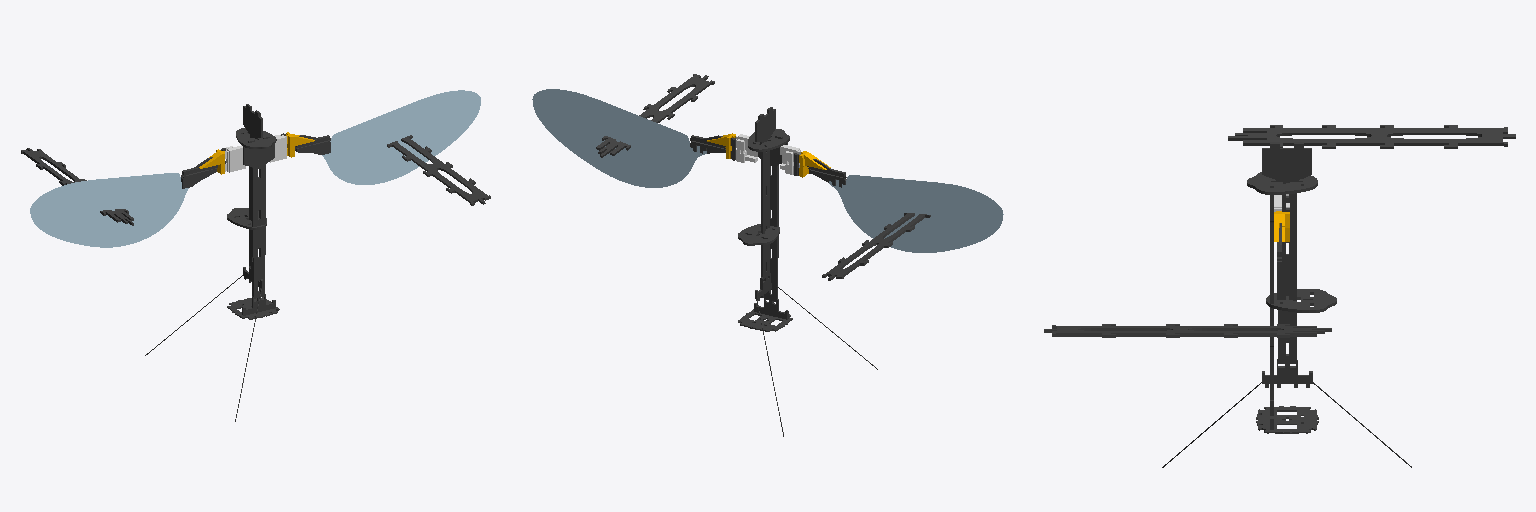
The robot description file, URDF, robot "robobee_assembly":
<!--URDF generated by ONSHAPE BY PTC INC, 1.215-->
<robot name="robobee_assembly">
    <link name="airframe_asy__1_" />
    <link name="hinge_base">
        <visual>
            <origin xyz="-0.00115694 -0.000434896 2.75e-05" rpy="0 -0 0" />
            <geometry>
                <mesh filename="package://robobee_assembly/meshes/hinge_base.obj" scale="1 1 1" />
            </geometry>
            <material name="0.301961_0.301961_0.301961_0.000000_0.000000">
                <color rgba="0.301961 0.301961 0.301961 1" />
            </material>
        </visual>
    </link>
    <link name="hinge_base__1_">
    </link>
    <link name="hinge_wing">
        <visual>
            <origin xyz="0 0 0" rpy="0 -0 0" />
            <geometry>
                <mesh filename="package://robobee_assembly/meshes/hinge_wing.obj" scale="1 1 1" />
            </geometry>
            <material name="0.301961_0.301961_0.301961_0.000000_0.000000">
                <color rgba="0.301961 0.301961 0.301961 1" />
            </material>
        </visual>
    </link>
    <link name="hinge_wing__1_">
    </link>
    <link name="part_1">
        <visual>
            <origin xyz="0.00679779 -0.00217114 -1.5e-06" rpy="0 -0 0" />
            <geometry>
                <mesh filename="package://robobee_assembly/meshes/Part_1.obj" scale="1 1 1" />
            </geometry>
            <material name="0.768627_0.886275_0.952941_0.000000_0.901961">
                <color rgba="0.768627 0.886275 0.952941 0.0980392" />
            </material>
        </visual>
    </link>
    <link name="part_1_1">
        <visual>
            <origin xyz="0.00563025 -0.00176977 -8e-05" rpy="0 -0 0" />
            <geometry>
                <mesh filename="package://robobee_assembly/meshes/Part_1_1.obj" scale="1 1 1" />
            </geometry>
            <material name="0.301961_0.301961_0.301961_0.000000_0.000000">
                <color rgba="0.301961 0.301961 0.301961 1" />
            </material>
        </visual>
    </link>
    <link name="part_1_2">
        <visual>
            <origin xyz="8.5e-05 8.5e-05 -0.0037825" rpy="0 -0 0" />
            <geometry>
                <mesh filename="package://robobee_assembly/meshes/Part_1_2.obj" scale="1 1 1" />
            </geometry>
            <material name="0.301961_0.301961_0.301961_0.000000_0.000000">
                <color rgba="0.301961 0.301961 0.301961 1" />
            </material>
        </visual>
    </link>
    <link name="part_1_3">
        <visual>
            <origin xyz="-0.000859972 -8.5e-05 -0.00856221" rpy="0 -0 0" />
            <geometry>
                <mesh filename="package://robobee_assembly/meshes/Part_1_3.obj" scale="1 1 1" />
            </geometry>
            <material name="0.301961_0.301961_0.301961_0.000000_0.000000">
                <color rgba="0.301961 0.301961 0.301961 1" />
            </material>
        </visual>
    </link>
    <link name="part_1_4">
        <visual>
            <origin xyz="3.12889e-17 -1.40194e-16 4.5e-05" rpy="0 -0 0" />
            <geometry>
                <mesh filename="package://robobee_assembly/meshes/Part_1_4.obj" scale="1 1 1" />
            </geometry>
            <material name="0.301961_0.301961_0.301961_0.000000_0.000000">
                <color rgba="0.301961 0.301961 0.301961 1" />
            </material>
        </visual>
    </link>
    <link name="part_1_5">
        <visual>
            <origin xyz="-0.00086 0.0005575 8.5e-05" rpy="0 -0 0" />
            <geometry>
                <mesh filename="package://robobee_assembly/meshes/Part_1_5.obj" scale="1 1 1" />
            </geometry>
            <material name="0.301961_0.301961_0.301961_0.000000_0.000000">
                <color rgba="0.301961 0.301961 0.301961 1" />
            </material>
        </visual>
    </link>
    <link name="part_1_6">
        <visual>
            <origin xyz="0.000934002 0 -0.0002" rpy="0 -0 0" />
            <geometry>
                <mesh filename="package://robobee_assembly/meshes/Part_1_6.obj" scale="1 1 1" />
            </geometry>
            <material name="0.301961_0.301961_0.301961_0.000000_0.000000">
                <color rgba="0.301961 0.301961 0.301961 1" />
            </material>
        </visual>
    </link>
    <link name="part_1_7">
        <visual>
            <origin xyz="0.00679779 -0.00217114 -1.5e-06" rpy="0 -0 0" />
            <geometry>
                <mesh filename="package://robobee_assembly/meshes/Part_1.obj" scale="1 1 1" />
            </geometry>
            <material name="0.768627_0.886275_0.952941_0.000000_0.901961">
                <color rgba="0.768627 0.886275 0.952941 0.0980392" />
            </material>
        </visual>
    </link>
    <link name="part_1_8">
        <visual>
            <origin xyz="0.00563025 -0.00176977 -8e-05" rpy="0 -0 0" />
            <geometry>
                <mesh filename="package://robobee_assembly/meshes/Part_1_1.obj" scale="1 1 1" />
            </geometry>
            <material name="0.301961_0.301961_0.301961_0.000000_0.000000">
                <color rgba="0.301961 0.301961 0.301961 1" />
            </material>
        </visual>
    </link>
    <link name="planar_1" />
    <link name="planar_1_1" />
    <link name="planar_1_2" />
    <link name="planar_1_3" />
    <link name="planar_2_loop_closure" />
    <link name="planar_2_loop_closure_1" />
    <link name="root">
        <visual>
            <origin xyz="-0.00488933 -0.000412 0.011418" rpy="1.5708 2.25796e-15 3.14159" />
            <geometry>
                <mesh filename="package://robobee_assembly/meshes/hinge_wing_Mirrored.obj" scale="1 1 1" />
            </geometry>
            <material name="0.301961_0.301961_0.301961_0.000000_0.000000">
                <color rgba="0.301961 0.301961 0.301961 1" />
            </material>
        </visual>
        <visual>
            <origin xyz="-0.00488933 -0.000412 0.011418" rpy="1.5708 2.25796e-15 3.14159" />
            <geometry>
                <mesh filename="package://robobee_assembly/meshes/hinge_base_Mirrored.obj" scale="1 1 1" />
            </geometry>
            <material name="0.301961_0.301961_0.301961_0.000000_0.000000">
                <texture />
                <color rgba="0.301961 0.301961 0.301961 1" />
            </material>
        </visual>
        <visual>
            <origin xyz="0.00421147 0.000143 0.012328" rpy="1.5708 9.23243e-12 5.67747e-11" />
            <geometry>
                <mesh filename="package://robobee_assembly/meshes/transmission_link_2.obj" scale="1 1 1" />
            </geometry>
            <material name="0.301961_0.301961_0.301961_0.000000_0.000000">
                <texture />
                <color rgba="0.301961 0.301961 0.301961 1" />
            </material>
        </visual>
        <visual>
            <origin xyz="0.00421147 0.000143 0.012328" rpy="1.5708 -3.15136e-11 4.6094e-22" />
            <geometry>
                <mesh filename="package://robobee_assembly/meshes/transmission_link_1.obj" scale="1 1 1" />
            </geometry>
            <material name="0.917647_0.917647_0.917647_0.000000_0.000000">
                <texture />
                <color rgba="0.917647 0.917647 0.917647 1" />
            </material>
        </visual>
        <visual>
            <origin xyz="0.00421147 0.000143 0.011928" rpy="-1.5708 -2.03591e-15 -3.95164e-22" />
            <geometry>
                <mesh filename="package://robobee_assembly/meshes/transmission_base_Mirrored.obj" scale="1 1 1" />
            </geometry>
            <material name="0.917647_0.917647_0.917647_0.000000_0.000000">
                <texture />
                <color rgba="0.917647 0.917647 0.917647 1" />
            </material>
        </visual>
        <visual>
            <origin xyz="0.00421147 0.000143 0.011928" rpy="-1.5708 -1.81387e-15 8.36974e-12" />
            <geometry>
                <mesh filename="package://robobee_assembly/meshes/transmission_hinge_Mirrored.obj" scale="1 1 1" />
            </geometry>
            <material name="0.980392_0.713725_0.003922_0.000000_0.000000">
                <texture />
                <color rgba="0.980392 0.713726 0.00392157 1" />
            </material>
        </visual>
    </link>
    <link name="sketch_1__1_">
    </link>
    <link name="sketch_2__1_">
    </link>
    <link name="sketch_2__1__loop_closure">
    </link>
    <link name="sketch_3__1_">
    </link>
    <link name="transmission_base">
        <visual>
            <origin xyz="0.00258588 0.00107999 -0.000579" rpy="0 -0 0" />
            <geometry>
                <mesh filename="package://robobee_assembly/meshes/transmission_base.obj" scale="1 1 1" />
            </geometry>
            <material name="0.917647_0.917647_0.917647_0.000000_0.000000">
                <color rgba="0.917647 0.917647 0.917647 1" />
            </material>
        </visual>
    </link>
    <link name="transmission_base__1_">
    </link>
    <link name="transmission_hinge">
        <visual>
            <origin xyz="0.00171622 0.00098 -0.0005265" rpy="0 -0 0" />
            <geometry>
                <mesh filename="package://robobee_assembly/meshes/transmission_hinge.obj" scale="1 1 1" />
            </geometry>
            <material name="0.980392_0.713725_0.003922_0.000000_0.000000">
                <color rgba="0.980392 0.713726 0.00392157 1" />
            </material>
        </visual>
    </link>
    <link name="transmission_hinge__2_">
    </link>
    <link name="transmission_hinge_mirrored__1_">
    </link>
    <link name="transmission_link_1">
        <visual>
            <origin xyz="0.00198021 0.00098 -0.0001235" rpy="0 -0 0" />
            <geometry>
                <mesh filename="package://robobee_assembly/meshes/transmission_link_1.obj" scale="1 1 1" />
            </geometry>
            <material name="0.917647_0.917647_0.917647_0.000000_0.000000">
                <color rgba="0.917647 0.917647 0.917647 1" />
            </material>
        </visual>
    </link>
    <link name="transmission_link_1__1_">
    </link>
    <link name="transmission_link_1__1__1">
    </link>
    <link name="transmission_link_2">
        <visual>
            <origin xyz="0.00158021 0.00098 -0.0001235" rpy="0 -0 0" />
            <geometry>
                <mesh filename="package://robobee_assembly/meshes/transmission_link_2.obj" scale="1 1 1" />
            </geometry>
            <material name="0.301961_0.301961_0.301961_0.000000_0.000000">
                <color rgba="0.301961 0.301961 0.301961 1" />
            </material>
        </visual>
    </link>
    <link name="transmission_link_2__1_">
    </link>
    <link name="transmission_urdf__1_" />
    <joint name="fastened_1" type="fixed">
        <origin xyz="-0.000989203 0.000146549 1.5e-06" rpy="6.60706e-15 -3.11051e-15 -4.16889e-14" />
        <axis xyz="0 0 -1" />
        <parent link="part_1_1" />
        <child link="part_1" />
    </joint>
    <joint name="fastened_1_1" type="fixed">
        <origin xyz="-0.000670617 -3.84606e-08 0.000254" rpy="2.77556e-16 3.29303e-22 -2.22045e-16" />
        <axis xyz="0 0 1" />
        <parent link="transmission_base" />
        <child link="transmission_urdf__1_" />
    </joint>
    <joint name="fastened_1_2" type="fixed">
        <origin xyz="0.000934002 2.95987e-17 -2.90837e-17" rpy="3.30872e-24 -3.37238e-29 6.58606e-23" />
        <axis xyz="0 0 1" />
        <parent link="part_1_6" />
        <child link="airframe_asy__1_" />
    </joint>
    <joint name="fastened_1_3" type="fixed">
        <origin xyz="6.39113e-20 0 0" rpy="7.77156e-16 3.87741e-26 -3.14159" />
        <axis xyz="0 0 -1" />
        <parent link="root" />
        <child link="part_1_4" />
    </joint>
    <joint name="fastened_1_4" type="fixed">
        <origin xyz="-0.000989203 0.000146549 -8e-05" rpy="-5.93844e-15 1.27017e-15 1.98452e-15" />
        <axis xyz="0 0 -1" />
        <parent link="part_1_8" />
        <child link="part_1_7" />
    </joint>
    <joint name="fastened_2" type="fixed">
        <origin xyz="-0.00301999 0.000805097 -0.0001175" rpy="3.14159 1.84962e-30 1.2935e-26" />
        <axis xyz="-1 0 0" />
        <parent link="hinge_base" />
        <child link="transmission_hinge_mirrored__1_" />
    </joint>
    <joint name="fastened_2_1" type="fixed">
        <origin xyz="0.001019 -8.5e-05 0.01037" rpy="-1.11022e-16 -1.11022e-16 -1.5708" />
        <axis xyz="0 0 1" />
        <parent link="part_1_6" />
        <child link="part_1_3" />
    </joint>
    <joint name="fastened_3" type="fixed">
        <origin xyz="-0.00172 3.70255e-17 6.93889e-17" rpy="-1.11022e-16 1.11022e-16 -1.5708" />
        <axis xyz="0 0 1" />
        <parent link="part_1_3" />
        <child link="part_1_2" />
    </joint>
    <joint name="fastened_4" type="fixed">
        <origin xyz="0.001794 -8.5e-05 0.01309" rpy="3.30872e-24 -3.37238e-29 6.58606e-23" />
        <axis xyz="0 0 1" />
        <parent link="part_1_6" />
        <child link="part_1_5" />
    </joint>
    <joint name="fastened_5" type="fixed">
        <origin xyz="0.000934 0.000775 9e-05" rpy="-3.30872e-24 -2.14693e-15 3.14159" />
        <axis xyz="2.14693e-15 0 1" />
        <parent link="part_1_4" />
        <child link="part_1_6" />
    </joint>
    <joint name="group_1_fastened_joint" type="fixed">
        <origin xyz="-0.000859972 -8.5e-05 -0.00856221" rpy="-1.22762e-69 9.86076e-32 -2.48991e-38" />
        <axis xyz="0 0 1" />
        <parent link="part_1_3" />
        <child link="sketch_1__1_" />
    </joint>
    <joint name="group_1_fastened_joint_1" type="fixed">
        <origin xyz="0 0 -2.1684e-19" rpy="-1.22762e-69 9.86076e-32 -2.48991e-38" />
        <axis xyz="0 0 1" />
        <parent link="sketch_3__1_" />
        <child link="sketch_2__1_" />
    </joint>
    <joint name="group_2_fastened_joint" type="fixed">
        <origin xyz="-0.000859972 -8.5e-05 -0.00856221" rpy="-1.22762e-69 9.86076e-32 -2.48991e-38" />
        <axis xyz="0 0 1" />
        <parent link="part_1_3" />
        <child link="sketch_3__1_" />
    </joint>
    <joint name="hanging_node_to_root_joint" type="fixed">
        <origin xyz="0.00488933 -0.000412 0.011418" rpy="1.5708 -1.81387e-15 8.36974e-12" />
        <axis xyz="0 0 1" />
        <parent link="root" />
        <child link="hinge_wing" />
    </joint>
    <joint name="planar_1" type="prismatic">
        <origin xyz="-0.00344588 -0.000219992 -0.012601" rpy="7.77156e-16 2.14693e-15 -6.58552e-22" />
        <axis xyz="1 0 0" />
        <parent link="part_1_5" />
        <child link="planar_1_1" />
        <limit effort="1" velocity="1" lower="-10000" upper="10000" />
        <mimic offset="0" multiplier="-1" joint="planar_1_3" />
    </joint>
    <joint name="planar_1_1" type="prismatic">
        <origin xyz="0 0 0" rpy="0 -0 0" />
        <axis xyz="0 0 1" />
        <parent link="planar_1_1" />
        <child link="planar_1" />
        <limit effort="1" velocity="1" lower="-10000" upper="10000" />
        <mimic offset="0" multiplier="1" joint="planar_1_4" />
    </joint>
    <joint name="planar_1_2" type="continuous">
        <origin xyz="0 0 0" rpy="0 -0 0" />
        <axis xyz="0 -1 0" />
        <parent link="planar_1" />
        <child link="transmission_base__1_" />
        <mimic offset="0" multiplier="-1" joint="planar_1_5" />
    </joint>
    <joint name="planar_1_3" type="prismatic">
        <origin xyz="-0.00248559 0.000424 -0.000172" rpy="-1.5708 1.11022e-16 3.14159" />
        <axis xyz="1 0 0" />
        <parent link="part_1_5" />
        <child link="planar_1_3" />
        <limit effort="1" velocity="1" lower="-10000" upper="10000" />
    </joint>
    <joint name="planar_1_4" type="prismatic">
        <origin xyz="0 0 0" rpy="0 -0 0" />
        <axis xyz="0 0 1" />
        <parent link="planar_1_3" />
        <child link="planar_1_2" />
        <limit effort="1" velocity="1" lower="-10000" upper="10000" />
    </joint>
    <joint name="planar_1_5" type="continuous">
        <origin xyz="0 0 0" rpy="0 -0 0" />
        <axis xyz="0 -1 0" />
        <parent link="planar_1_2" />
        <child link="transmission_base" />
    </joint>
    <joint name="planar_2_loop_closure" type="prismatic">
        <origin xyz="-0.000670593 0.00633515 -0.000434578" rpy="0 -1.5708 1.5708" />
        <axis xyz="0 0 -1" />
        <parent link="transmission_base" />
        <child link="planar_2_loop_closure_1" />
        <limit effort="1" velocity="1" lower="-10000" upper="10000" />
    </joint>
    <joint name="planar_2_loop_closure_1" type="prismatic">
        <origin xyz="0 0 0" rpy="0 -0 0" />
        <axis xyz="-1 0 0" />
        <parent link="planar_2_loop_closure_1" />
        <child link="planar_2_loop_closure" />
        <limit effort="1" velocity="1" lower="-10000" upper="10000" />
    </joint>
    <joint name="planar_2_loop_closure_2" type="continuous">
        <origin xyz="0 0 0" rpy="0 -0 0" />
        <axis xyz="0 1 0" />
        <parent link="planar_2_loop_closure" />
        <child link="sketch_2__1__loop_closure" />
    </joint>
    <joint name="revolute_1" type="continuous">
        <origin xyz="-0.0106513 -7.98673e-05 -8e-05" rpy="3.14159 1.6557e-11 2.99451" />
        <axis xyz="0 0 -1" />
        <parent link="hinge_wing" />
        <child link="part_1_1" />
        <mimic offset="0" multiplier="-1" joint="revolute_1_6" />
    </joint>
    <joint name="revolute_1_1" type="continuous">
        <origin xyz="0.000869661 9.99916e-05 -5.25e-05" rpy="0 -0 0" />
        <axis xyz="0 -1 0" />
        <parent link="transmission_base__1_" />
        <child link="transmission_hinge__2_" />
        <mimic offset="0" multiplier="-1" joint="revolute_1_4" />
    </joint>
    <joint name="revolute_1_2" type="continuous">
        <origin xyz="0.000284345 0.000514764 -2.75e-05" rpy="0 -0 0" />
        <axis xyz="1 0 0" />
        <parent link="hinge_wing__1_" />
        <child link="hinge_base__1_" />
        <mimic offset="0" multiplier="-1" joint="revolute_1_5" />
    </joint>
    <joint name="revolute_1_3" type="continuous">
        <origin xyz="-0.00649814 -0.0104992 -0.000332133" rpy="-1.5708 -8.36975e-12 -0.147079" />
        <axis xyz="0 0 -1" />
        <parent link="part_1_8" />
        <child link="hinge_wing__1_" />
    </joint>
    <joint name="revolute_1_4" type="continuous">
        <origin xyz="0.000869661 9.99916e-05 -5.25e-05" rpy="-1.66533e-16 8.36971e-12 1.57362e-26" />
        <axis xyz="0 -1 0" />
        <parent link="transmission_base" />
        <child link="transmission_hinge" />
    </joint>
    <joint name="revolute_1_5" type="continuous">
        <origin xyz="0.00115694 0.000434896 -2.75e-05" rpy="-3.14237e-17 2.84992e-32 3.9443e-31" />
        <axis xyz="1 0 0" />
        <parent link="hinge_wing" />
        <child link="hinge_base" />
    </joint>
    <joint name="revolute_1_6" type="continuous">
        <origin xyz="0.000872592 -7.98673e-05 -5.42101e-20" rpy="7.21823e-17 -1.58803e-17 0.147079" />
        <axis xyz="0 0 -1" />
        <parent link="hinge_wing" />
        <child link="part_1_8" />
    </joint>
    <joint name="revolute_2" type="continuous">
        <origin xyz="0.000136003 -9.03854e-14 -0.000403" rpy="0 -0 0" />
        <axis xyz="0 -1 0" />
        <parent link="transmission_hinge__2_" />
        <child link="transmission_link_2__1_" />
        <mimic offset="0" multiplier="-1" joint="revolute_2_1" />
    </joint>
    <joint name="revolute_2_1" type="continuous">
        <origin xyz="0.000136003 -9.03826e-14 -0.000403" rpy="-1.4376e-26 4.80874e-11 -2.41023e-26" />
        <axis xyz="0 -1 0" />
        <parent link="transmission_hinge" />
        <child link="transmission_link_2" />
    </joint>
    <joint name="revolute_3" type="continuous">
        <origin xyz="-0.0004 0 0" rpy="0 -0 0" />
        <axis xyz="0 -1 0" />
        <parent link="transmission_link_2__1_" />
        <child link="transmission_link_1__1_" />
        <mimic offset="0" multiplier="-1" joint="revolute_3_1" />
    </joint>
    <joint name="revolute_3_1" type="continuous">
        <origin xyz="-0.0004 -1.73472e-18 -2.03288e-20" rpy="3.33067e-16 -5.64572e-11 -1.11022e-16" />
        <axis xyz="0 -1 0" />
        <parent link="transmission_link_2" />
        <child link="transmission_link_1" />
    </joint>
    <joint name="slider_1" type="prismatic">
        <origin xyz="-0.001003 0.00180136 0.00244801" rpy="1.5708 -3.15117e-11 1.5708" />
        <axis xyz="1 8.23363e-12 0" />
        <parent link="part_1_3" />
        <child link="transmission_link_1__1__1" />
        <limit effort="1" velocity="1" lower="-10000" upper="10000" />
    </joint>
</robot>

--- Facts derived from the render (not from the file) ---
Views: 3 orthographic renders of the robot side by side, from view 1: azimuth 30°, elevation 25°; view 2: azimuth 150°, elevation 25°; view 3: azimuth 270°, elevation 25°.
Model robobee_assembly with 36 links and 35 joints (14 continuous, 7 prismatic, 14 fixed), rooted at root, posed all joints at 0.
Links seen in each view (by area): view 1: part_1, part_1_7, part_1_6, part_1_8, part_1_3, root, part_1_1; view 2: part_1_7, part_1, part_1_3, part_1_6, part_1_8, part_1_1, root, part_1_2, part_1_4; view 3: part_1_3, part_1_1, part_1_8, part_1_4, part_1_2, part_1_5, part_1_6, root.
Boxes of the visible links, left/top/right/bottom form: part_1: left=30, top=173, right=188, bottom=247; part_1_7: left=322, top=90, right=480, bottom=184; part_1_6: left=242, top=136, right=275, bottom=315; part_1_8: left=387, top=135, right=490, bottom=205; part_1_3: left=145, top=104, right=263, bottom=421; root: left=181, top=132, right=314, bottom=188; part_1_1: left=21, top=148, right=133, bottom=225; part_1_7: left=532, top=89, right=706, bottom=187; part_1: left=829, top=175, right=1003, bottom=252; part_1_3: left=755, top=107, right=877, bottom=436; part_1_6: left=754, top=135, right=788, bottom=319; part_1_8: left=596, top=74, right=714, bottom=157; part_1_1: left=822, top=213, right=930, bottom=280; root: left=707, top=133, right=846, bottom=187; part_1_2: left=738, top=224, right=779, bottom=245; part_1_4: left=738, top=309, right=792, bottom=331; part_1_3: left=1162, top=142, right=1411, bottom=467; part_1_1: left=1228, top=125, right=1515, bottom=148; part_1_8: left=1044, top=324, right=1331, bottom=337; part_1_4: left=1256, top=406, right=1318, bottom=433; part_1_2: left=1266, top=289, right=1336, bottom=312; part_1_5: left=1247, top=172, right=1317, bottom=194; part_1_6: left=1270, top=182, right=1273, bottom=429; root: left=1274, top=195, right=1289, bottom=241.
Bounding box of the posed robot: 0.0365 × 0.0238 × 0.0205 m (x, y, z).
Meshes: 17 distinct files referenced, 21 mesh visuals loaded (17 OBJ).
